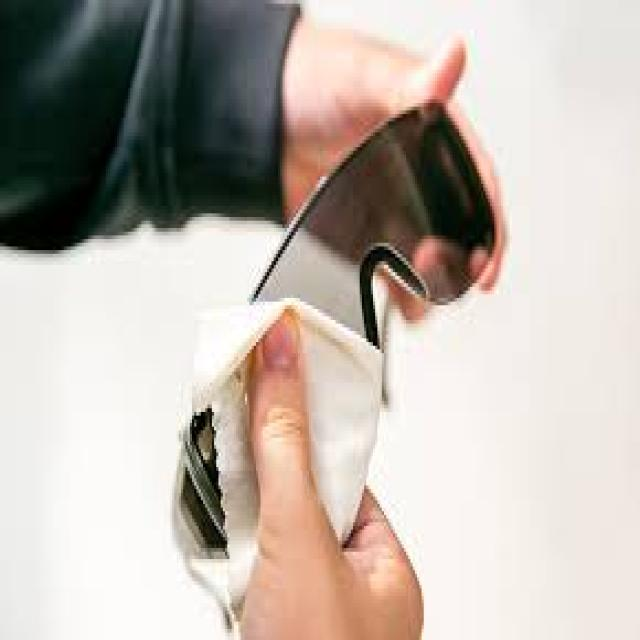oculos-epi: (252, 99, 494, 349), (179, 408, 227, 548)
